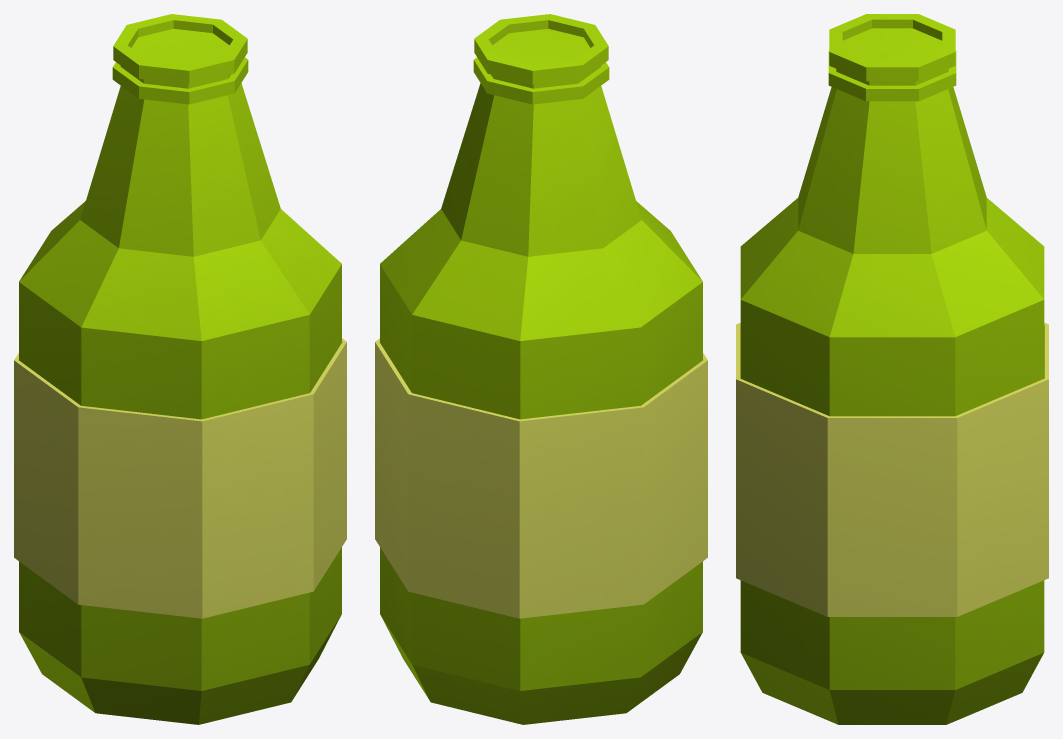
File: Bottle_glass_1.fbx
The picture shows the model from 3 angles, left to right: view 1: azimuth 30°, elevation 25°; view 2: azimuth 150°, elevation 25°; view 3: azimuth 270°, elevation 25°; orthographic projection.
Visible parts, largest first — view 1: Bottle_glass_1; view 2: Bottle_glass_1; view 3: Bottle_glass_1.
Boxes of the visible parts, x1,y1,x2,y2 form: Bottle_glass_1: [14, 14, 346, 724]; Bottle_glass_1: [375, 14, 707, 724]; Bottle_glass_1: [736, 14, 1048, 724].
Size of the model in its own units: 5.85 by 12.98 by 5.85.
